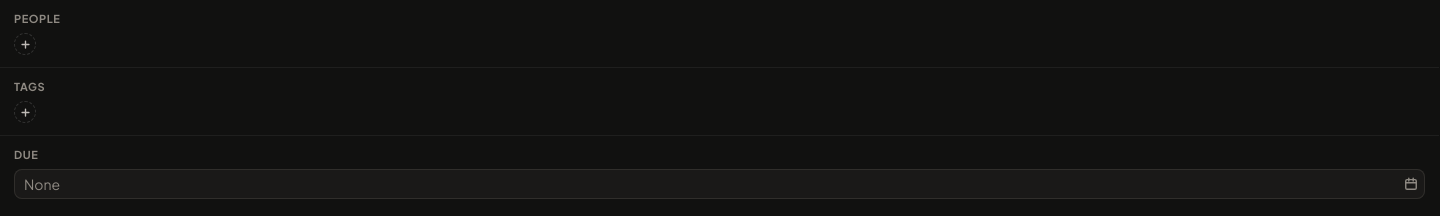
Scenario: TaskEditMetadata pickers and Esc › Esc in the People search closes the picker and is consumed
Click the button named "Add person". click: point(25, 44)
box: top-left (14, 33), bottom-right (36, 55)
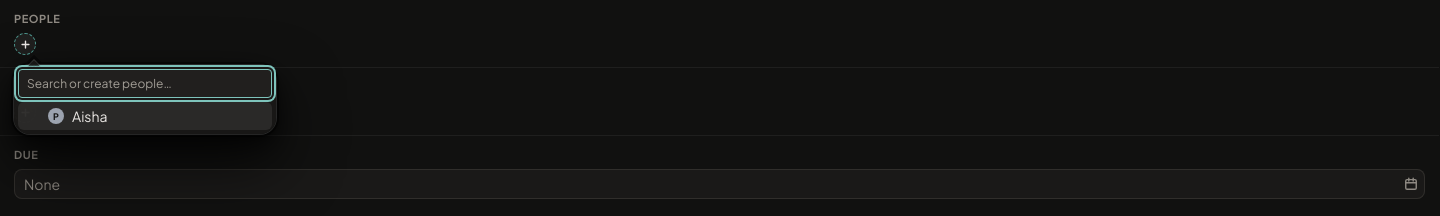
# `fireEvent` returns false when a handler called preventDefault (the dialog behind ignores it).
Press Escape in the dropdown with placeholder "Search or create people…", box top-left (18, 69), bottom-right (272, 98)
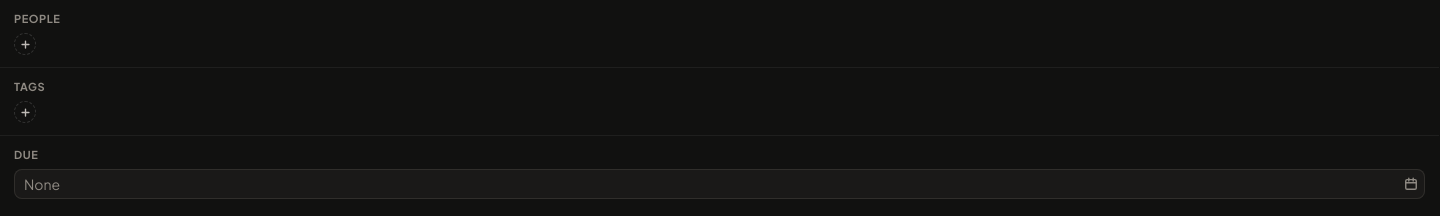
Expected: the field with placeholder "Search or create people…" is not shown
Result: the button named "Add person" is collapsed at top-left (14, 33), bottom-right (36, 55)
